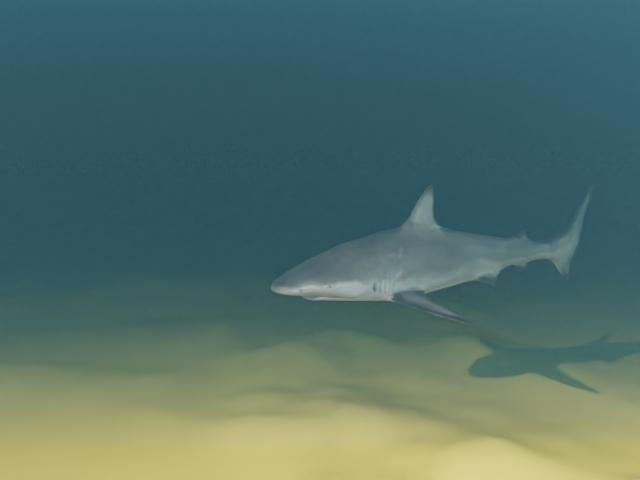Carribean Shark.001: (270, 184, 594, 325)
